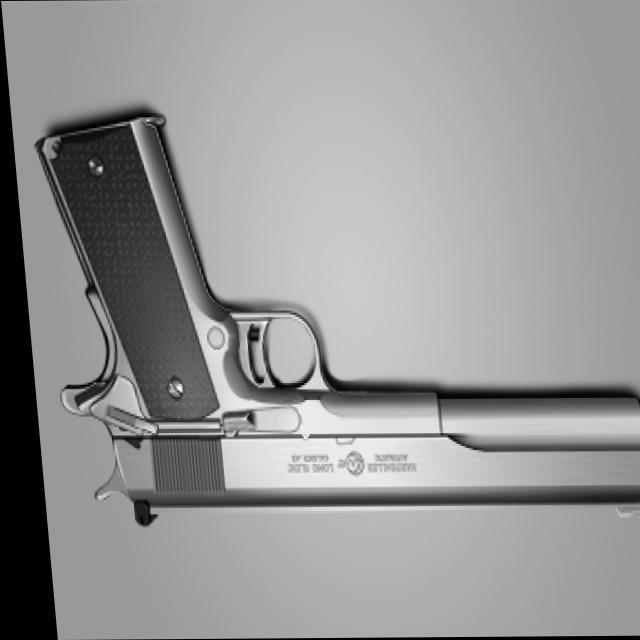handgun: (27, 113, 640, 525)
